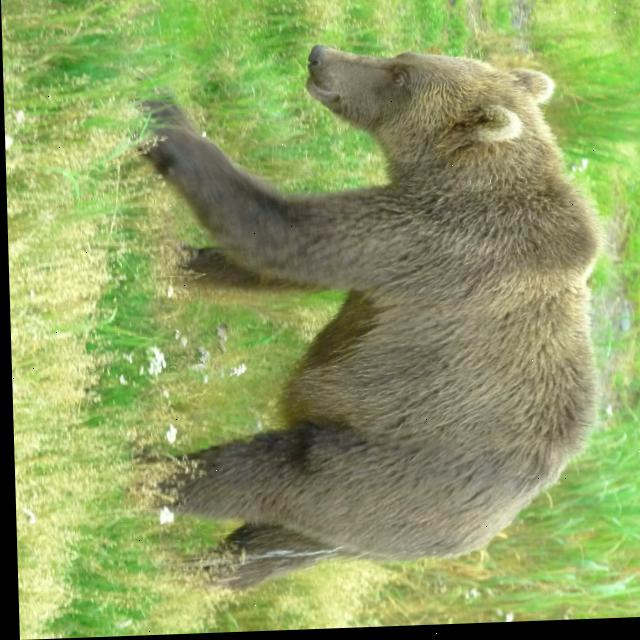bear face: (139, 34, 605, 587)
